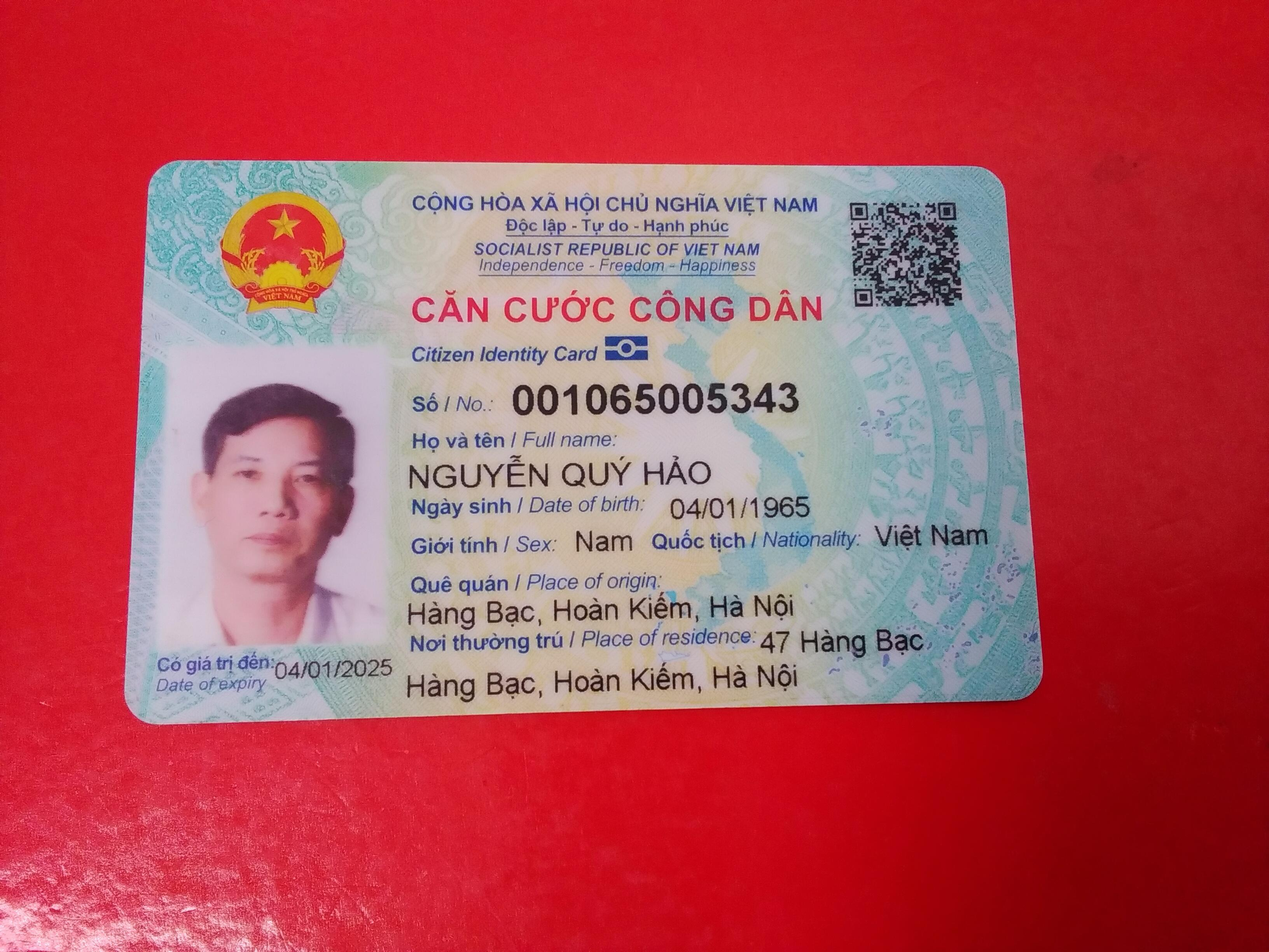ID: (501, 374, 811, 423)
birth: (658, 488, 819, 526)
name: (400, 451, 724, 494)
place: (390, 588, 812, 633)
residence: (397, 657, 814, 704), (759, 624, 932, 661)
